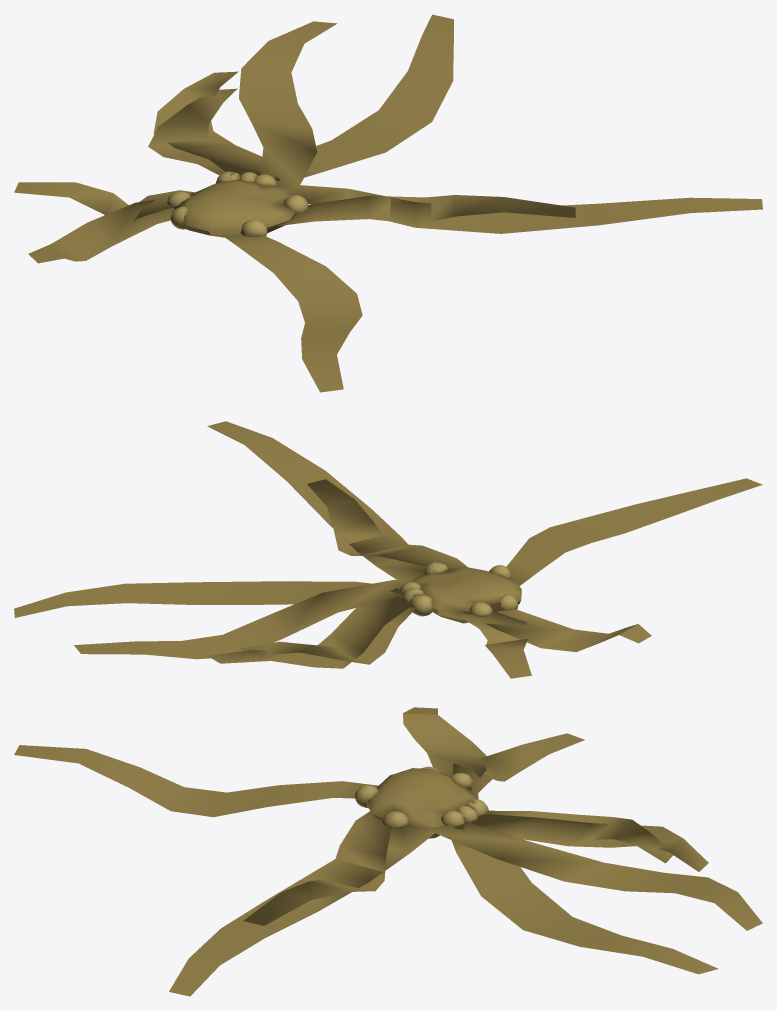
The model's file is kelpfloat.glb.
3 renders of one model, top to bottom at view 1: azimuth 30°, elevation 25°; view 2: azimuth 150°, elevation 25°; view 3: azimuth 270°, elevation 25°, orthographic. The views are drawn at different scales.
Parts seen in each view (by area): view 1: boat_kelp, boat_bulb; view 2: boat_kelp, boat_bulb; view 3: boat_kelp, boat_bulb.
Part boxes in pixels (x1,y1,x2,y2): boat_kelp: (14,14,762,392); boat_bulb: (167,171,308,237); boat_kelp: (14,421,762,678); boat_bulb: (400,562,518,617); boat_kelp: (14,707,762,996); boat_bulb: (354,766,488,828).
Size of the model in its own units: 3.63 by 0.1862 by 3.97.
